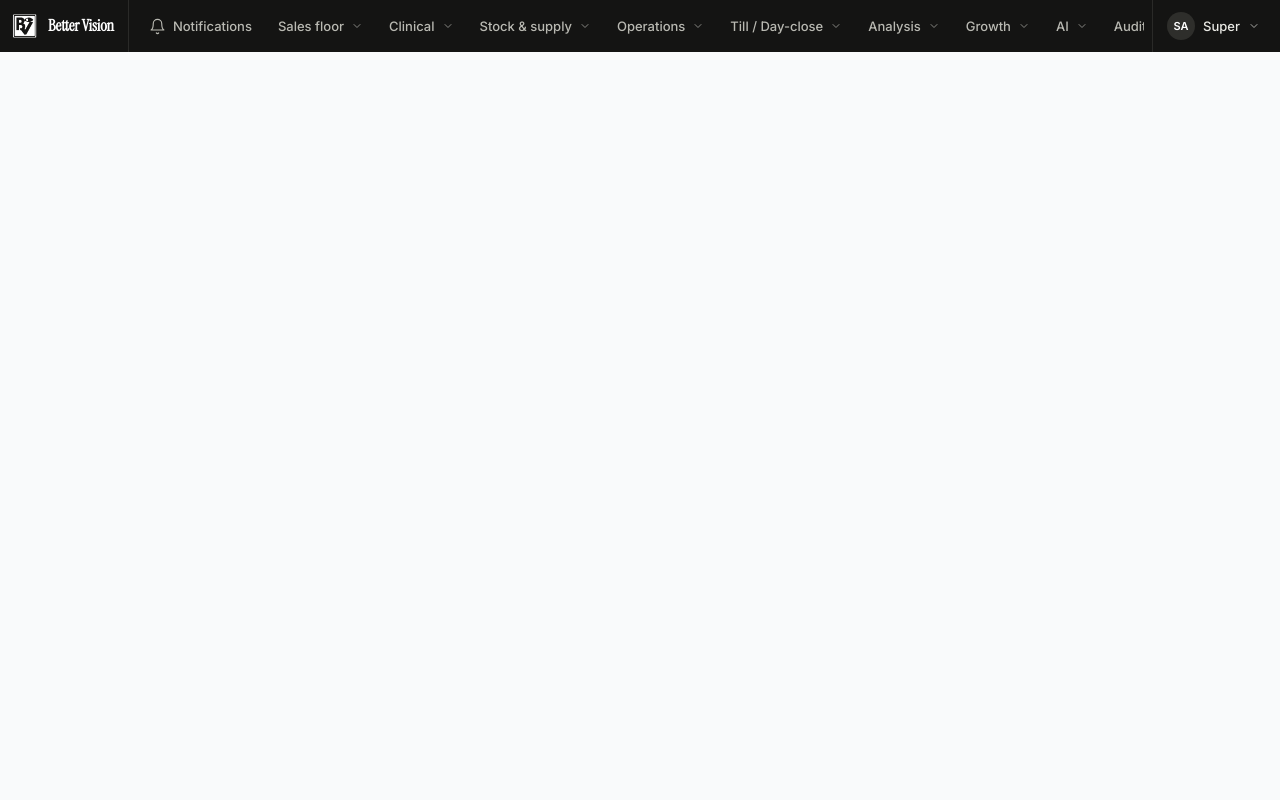
Test: TopNav group dropdowns (tap/click) › (h) Esc closes the open dropdown
The image size is (1280, 800).
Click the button "Stock & supply" at (535, 26), box [468,8,603,44]
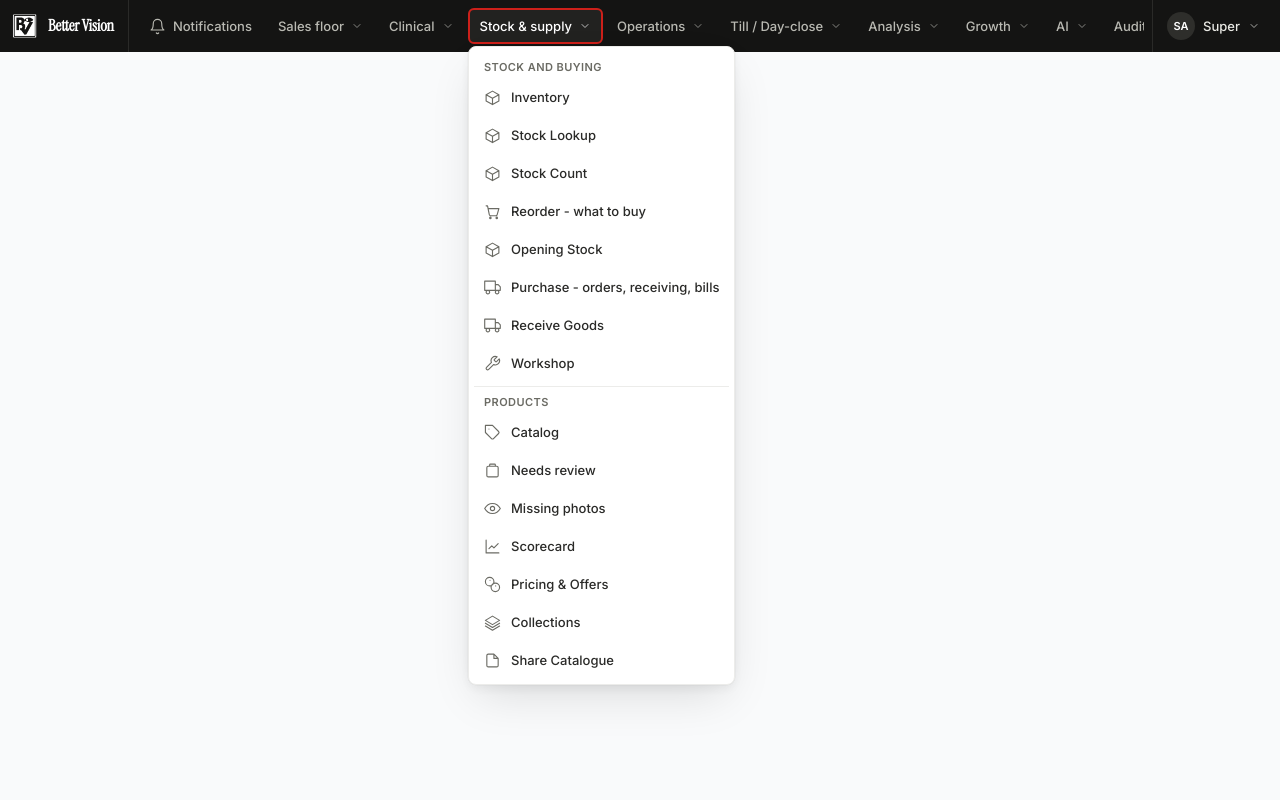
Press Escape
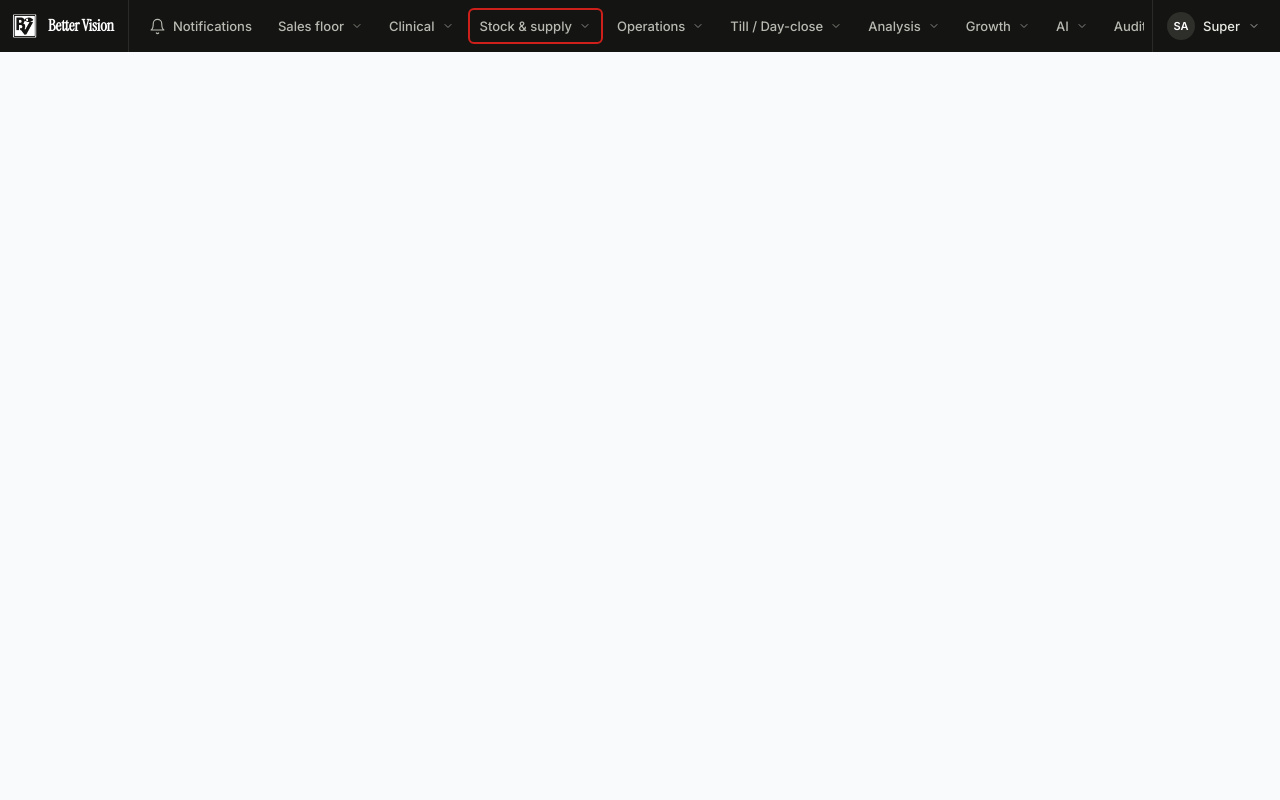
Check: the menu is gone
